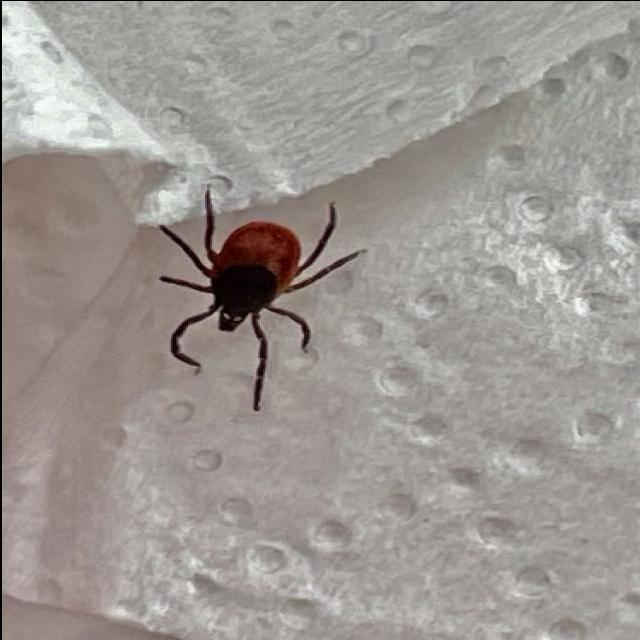Ixodes Ricinus-F: (157, 189, 358, 411)
